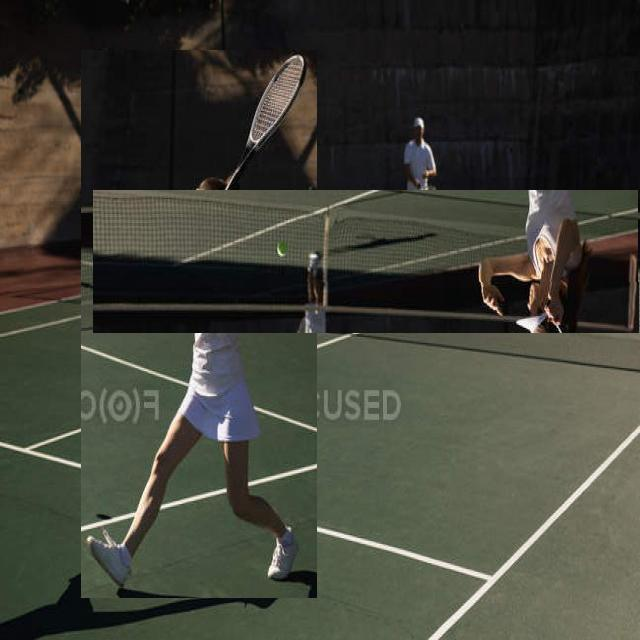court: (0, 282, 640, 640)
net: (93, 190, 640, 333)
player: (81, 50, 317, 598)
